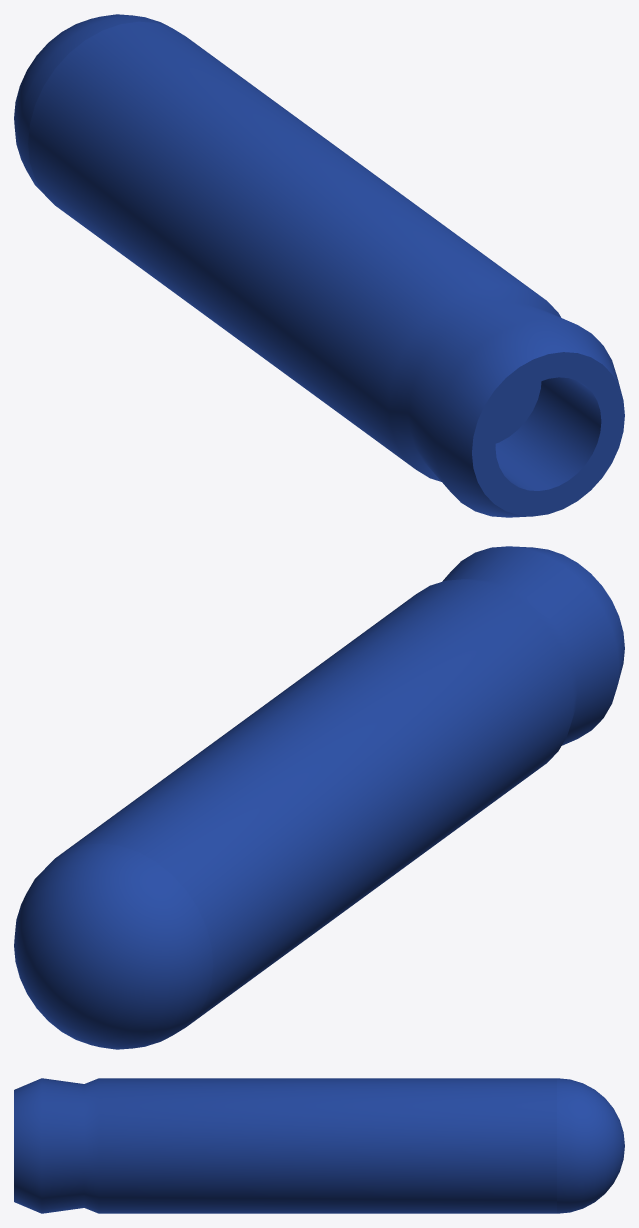
The model's file is Rocket.dae.
3 views of the same model, one above another, from view 1: azimuth 30°, elevation 25°; view 2: azimuth 150°, elevation 25°; view 3: azimuth 270°, elevation 25° (orthographic). The views are drawn at different scales.
Visible parts, largest first — view 1: Body; view 2: Body; view 3: Body.
Boxes of the visible parts, x1=… form: Body: x1=14, y1=14, x2=624, y2=517; Body: x1=14, y1=546, x2=624, y2=1049; Body: x1=14, y1=1078, x2=624, y2=1213.
Bounding box in the file's own units: 0.2 × 0.2 × 0.9.
